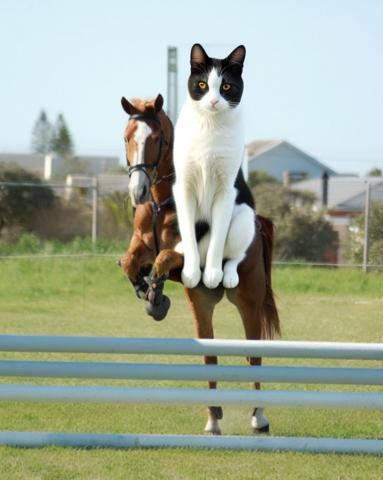cat: (167, 44, 255, 289)
horse: (122, 94, 284, 437)
